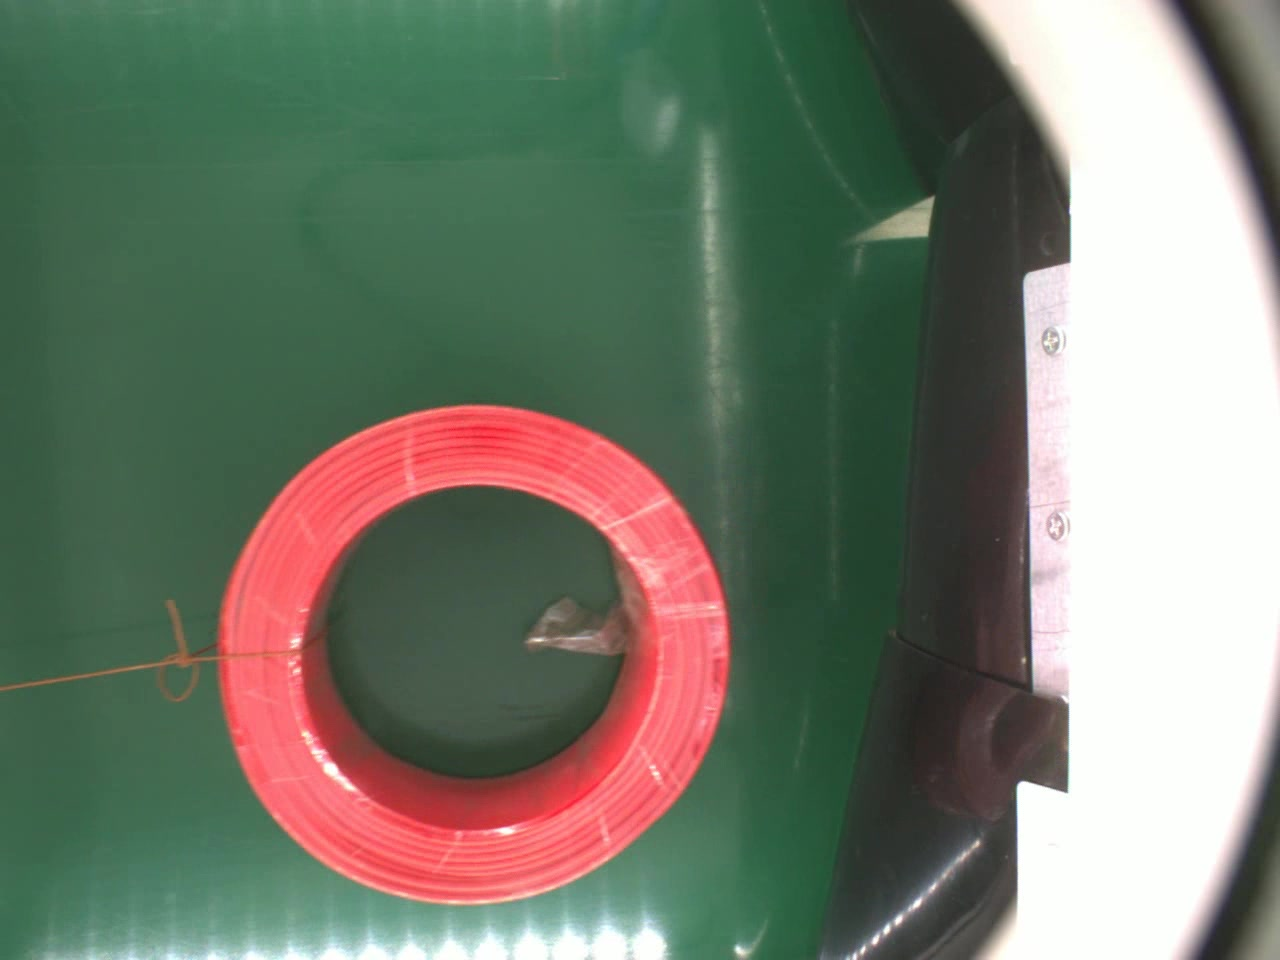red: (221, 397, 739, 908)
